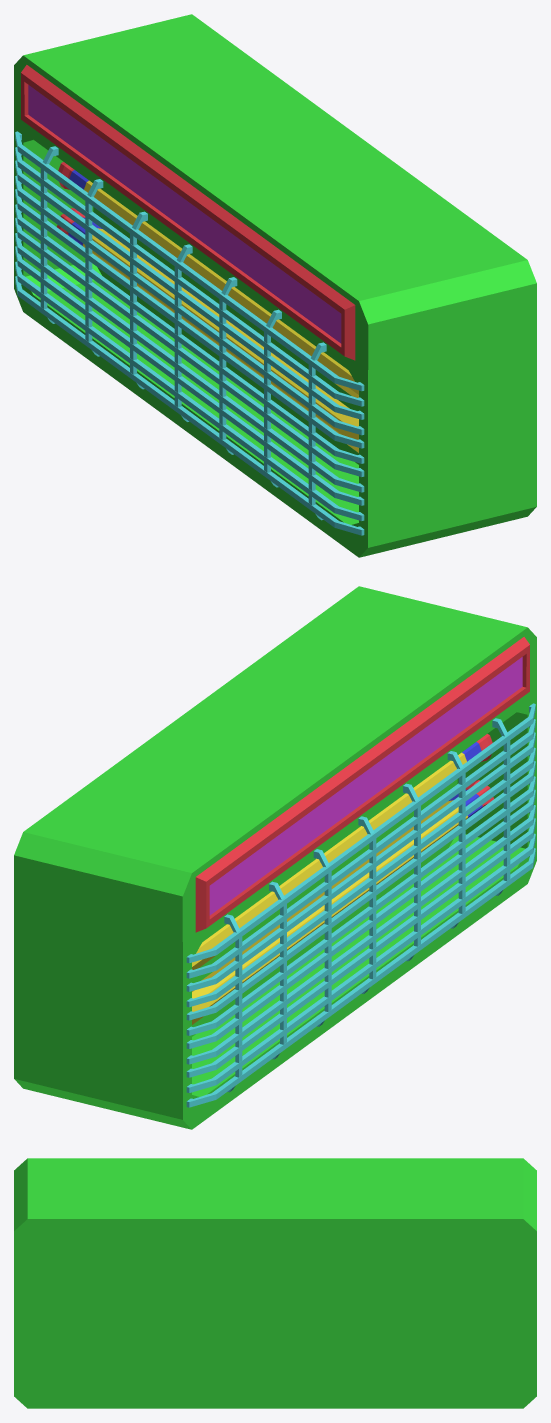
File: Lamp_07.fbx
3 renders of one model, top to bottom at view 1: azimuth 30°, elevation 25°; view 2: azimuth 150°, elevation 25°; view 3: azimuth 270°, elevation 25°, orthographic. The views are drawn at different scales.
Parts seen in each view (by area): view 1: Lamp_07; view 2: Lamp_07; view 3: Lamp_07.
Part boxes in pixels (x1=…): Lamp_07: x1=14, y1=14, x2=536, y2=557; Lamp_07: x1=14, y1=586, x2=536, y2=1129; Lamp_07: x1=14, y1=1158, x2=536, y2=1408.
Size of the model in its own units: 36.17 by 48.29 by 121.
